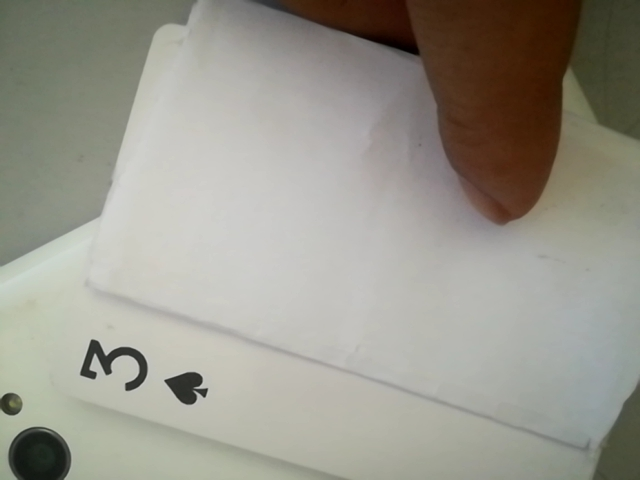ht 3: (65, 324, 220, 420)
